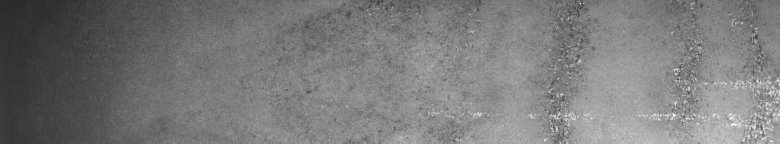hc: (654, 4, 776, 136)
